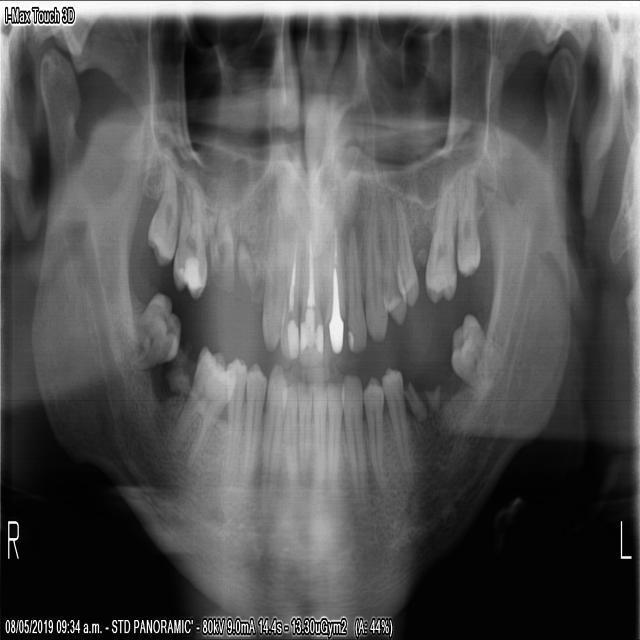LCD: (343, 371, 370, 523)
LCU: (363, 182, 388, 345)
LID: (327, 379, 344, 488), (312, 380, 327, 489)
LIU: (325, 208, 347, 362), (345, 210, 367, 356)
LMD: (448, 304, 494, 397)
LMU: (422, 169, 457, 306), (456, 161, 481, 284)
LPMD: (381, 361, 415, 492), (362, 370, 392, 494)
LPMU: (381, 186, 407, 327)
RCD: (260, 361, 286, 522)
RCU: (257, 177, 284, 355)
RID: (295, 376, 311, 489)
RIU: (299, 197, 324, 370), (279, 194, 304, 364)
RMD: (163, 340, 236, 473), (120, 288, 180, 377)
RMU: (168, 161, 209, 303), (142, 147, 177, 271)
RPMD: (234, 358, 265, 494)
RPMU: (236, 162, 263, 295), (207, 160, 233, 295)
